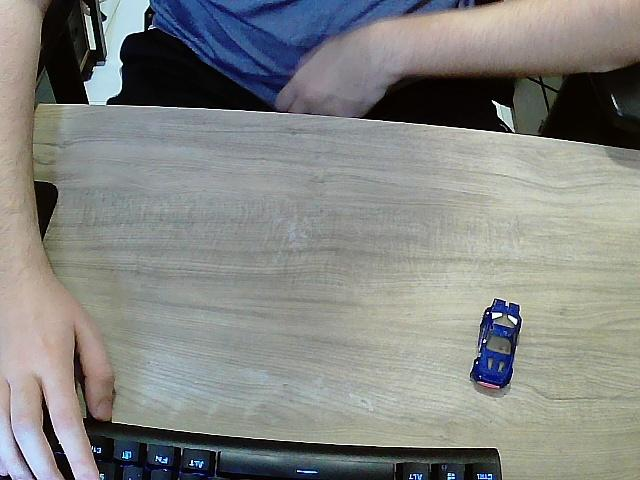Carro: (470, 300, 523, 395)
